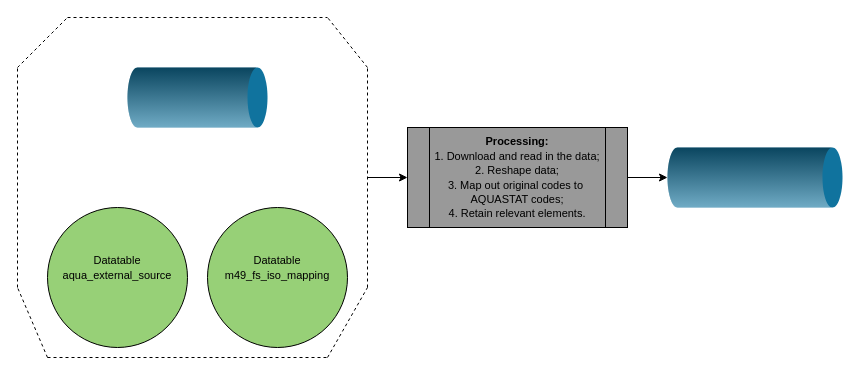
Some shapes in this 860 by 376 pixel diagram are drawn without their labels. Each missing label, with the centre of its shape:
aquastat_external dataset External data in an SWS compliant dataset: [754,177]
FAO dataset: [197,97]
